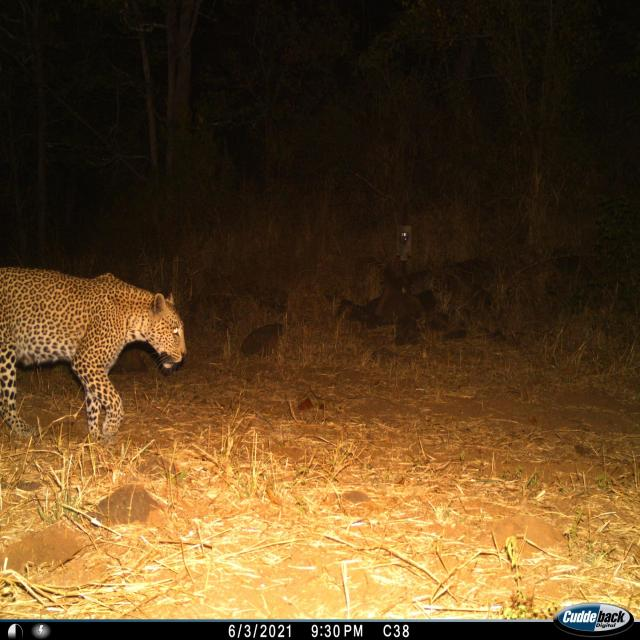Leopard: (0, 264, 182, 456)
